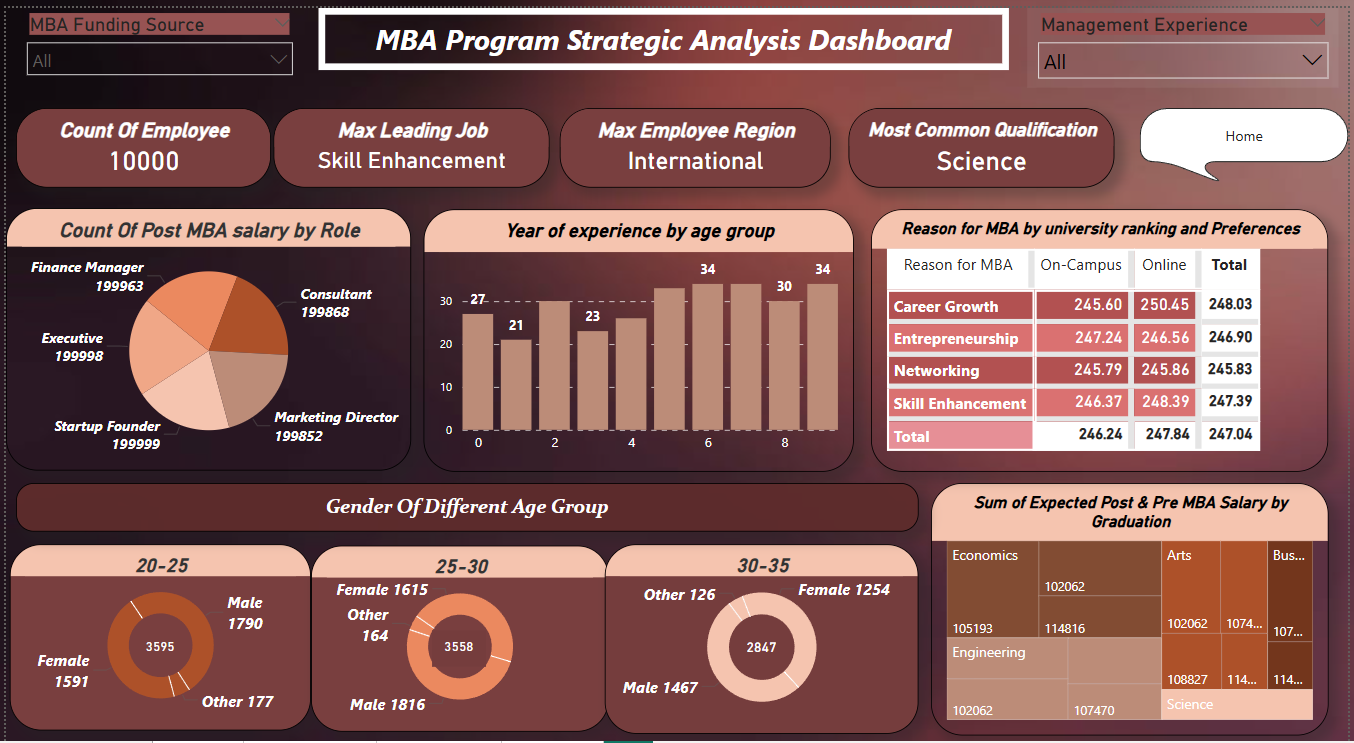

The page's visual inventory and layout, read from the dashboard file:
{"tool":"powerbi","page":{"name":"Dashboard","canvas":[1280,720],"ordinal":2},"visuals":[{"type":"card","title":"Count Of  Employee","fields":{"Values":["CountNonNull(mba_decision_dataset.Person ID)"]},"box":[9.5,95.4,243.2,76.3],"z":0},{"type":"card","title":"Max Leading Job","fields":{"Values":["mba_decision_dataset.max_job"]},"box":[255.1,95.4,263.4,76.3],"z":1000},{"type":"card","title":"Max Employee Region","fields":{"Values":["mba_decision_dataset.max_location"]},"box":[528.1,95.4,258.7,76.3],"z":2000},{"type":"card","title":"Most Common Qualification","fields":{"Values":["mba_decision_dataset.max_qualification"]},"box":[803.4,95.4,253.9,76.3],"z":3000},{"type":"pieChart","title":"Count Of Post MBA salary by Role","fields":{"Category":["mba_decision_dataset.Desired Post-MBA Role"],"Y":["Max(mba_decision_dataset.Expected Post-MBA Salary)"]},"box":[0,190.7,386.2,250.3],"z":4000},{"type":"treemap","title":"Sum of Expected Post & Pre MBA Salary by Graduation ","fields":{"Details":["mba_decision_dataset.Annual Salary (Before MBA)"],"Values":["Sum(mba_decision_dataset.Expected Post-MBA Salary)"],"Group":["mba_decision_dataset.Undergraduate Major"]},"box":[882.1,453,379.1,240.8],"z":5000},{"type":"columnChart","title":"Year of experience by age group","fields":{"Category":["mba_decision_dataset.Years of Work Experience"],"Y":["Max(mba_decision_dataset.Age)"]},"box":[398.1,191.9,410.1,250.3],"z":6000},{"type":"donutChart","title":"20-25","fields":{"Y":["Sum(mba_decision_dataset.Index.3)"],"Category":["mba_decision_dataset.Custom"],"Series":["mba_decision_dataset.Gender"]},"box":[3.6,511.4,287.3,177.6],"z":7000},{"type":"donutChart","title":"25-30","fields":{"Y":["Sum(mba_decision_dataset.Index.3)"],"Category":["mba_decision_dataset.Custom"],"Series":["mba_decision_dataset.Gender"]},"box":[290.9,512.6,283.7,177.6],"z":8000},{"type":"donutChart","title":"30-35","fields":{"Y":["Sum(mba_decision_dataset.Index.3)"],"Category":["mba_decision_dataset.Custom"],"Series":["mba_decision_dataset.Gender"]},"box":[571,511.4,299.2,181.2],"z":9000},{"type":"pivotTable","title":"Reason for MBA by university ranking and Preferences","fields":{"Rows":["mba_decision_dataset.Reason for MBA"],"Columns":["mba_decision_dataset.Online vs. On-Campus MBA"],"Values":["Avg(mba_decision_dataset.Undergrad University Ranking)"]},"box":[824.9,191.9,436.3,250.3],"z":10000},{"type":"textbox","box":[9.5,453,860.6,46.5],"z":11000},{"type":"card","fields":{"Values":["Sum(mba_decision_dataset.Index.3)"]},"box":[406.5,593.6,51.3,34.6],"z":12000},{"type":"card","fields":{"Values":["Sum(mba_decision_dataset.Index.3)"]},"box":[125.2,593.6,44.1,34.6],"z":13000},{"type":"card","fields":{"Values":["Sum(mba_decision_dataset.Index.3)"]},"box":[696.1,593.6,48.9,34.6],"z":14000},{"type":"textbox","box":[297.8,0,658.7,59],"z":15000},{"type":"slicer","fields":{"Values":["mba_decision_dataset.Has Management Experience"]},"box":[973.9,0,296.8,76.3],"z":16000},{"type":"slicer","fields":{"Values":["mba_decision_dataset.MBA Funding Source"]},"box":[9.5,0,274.2,76.3],"z":17000},{"type":"pageNavigator","box":[1081.2,95.4,199.1,76.3],"z":18000}]}

Visuals, with their boxes in screenshot pixels (x1, y1, x2, y2), scaled from the page's 1280x720 canvas onto the 1354x743 screenshot:
"Count Of  Employee" card: rect(10, 98, 267, 177)
"Max Leading Job" card: rect(270, 98, 548, 177)
"Max Employee Region" card: rect(559, 98, 832, 177)
"Most Common Qualification" card: rect(850, 98, 1118, 177)
"Count Of Post MBA salary by Role" pieChart: rect(0, 197, 409, 455)
"Sum of Expected Post & Pre MBA Salary by Graduation " treemap: rect(933, 467, 1334, 716)
"Year of experience by age group" columnChart: rect(421, 198, 855, 456)
"20-25" donutChart: rect(4, 528, 308, 711)
"25-30" donutChart: rect(308, 529, 608, 712)
"30-35" donutChart: rect(604, 528, 921, 715)
"Reason for MBA by university ranking and Preferences" pivotTable: rect(873, 198, 1334, 456)
textbox: rect(10, 467, 920, 515)
card - Sum(mba_decision_dataset.Index.3): rect(430, 613, 484, 648)
card - Sum(mba_decision_dataset.Index.3): rect(132, 613, 179, 648)
card - Sum(mba_decision_dataset.Index.3): rect(736, 613, 788, 648)
textbox: rect(315, 0, 1012, 61)
slicer - mba_decision_dataset.Has Management Experience: rect(1030, 0, 1344, 79)
slicer - mba_decision_dataset.MBA Funding Source: rect(10, 0, 300, 79)
pageNavigator: rect(1144, 98, 1353, 177)
